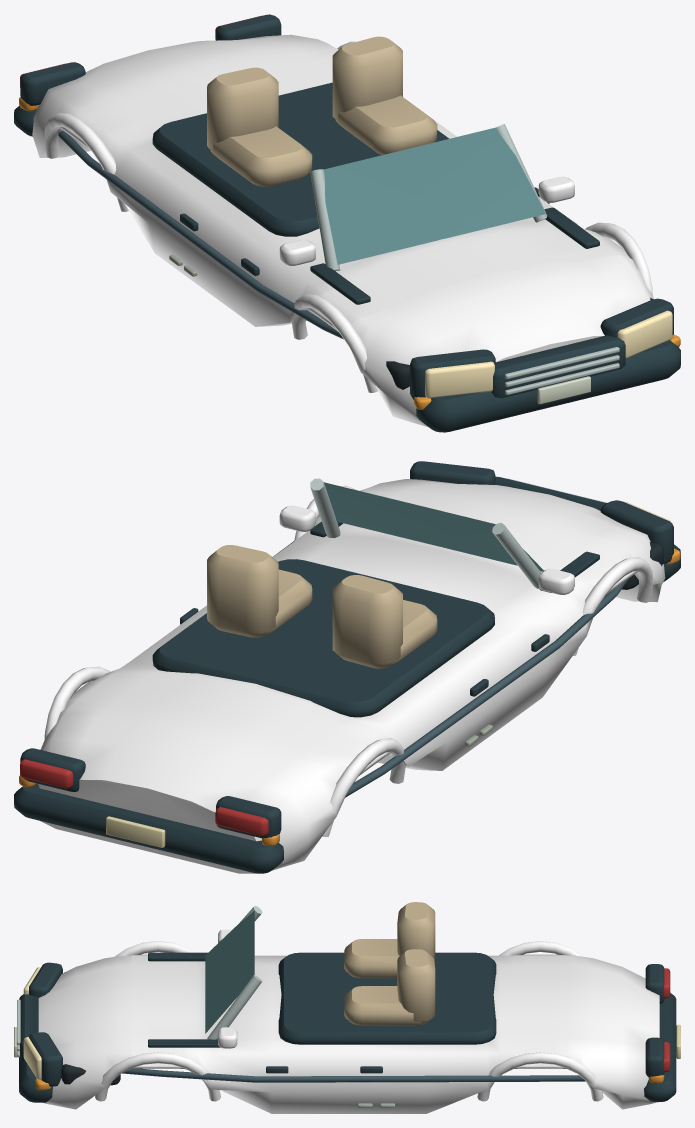
File: sunray.glb
The picture shows the model from 3 angles, top to bottom: view 1: azimuth 30°, elevation 25°; view 2: azimuth 150°, elevation 25°; view 3: azimuth 270°, elevation 25°; orthographic projection. The views are drawn at different scales.
Visible parts, largest first — view 1: Chassis, Headlamps; view 2: Chassis, BrakeLamps; view 3: Chassis, Headlamps, BrakeLamps.
Boxes of the visible parts, x1=… form: Chassis: x1=14, y1=14, x2=680, y2=432; Headlamps: x1=425, y1=310, x2=672, y2=398; Chassis: x1=14, y1=461, x2=680, y2=873; BrakeLamps: x1=20, y1=759, x2=268, y2=836; Chassis: x1=14, y1=902, x2=680, y2=1113; Headlamps: x1=23, y1=967, x2=41, y2=1079; BrakeLamps: x1=663, y1=968, x2=670, y2=1071.
Size of the model in its own units: 1.72 by 0.8916 by 4.17.
